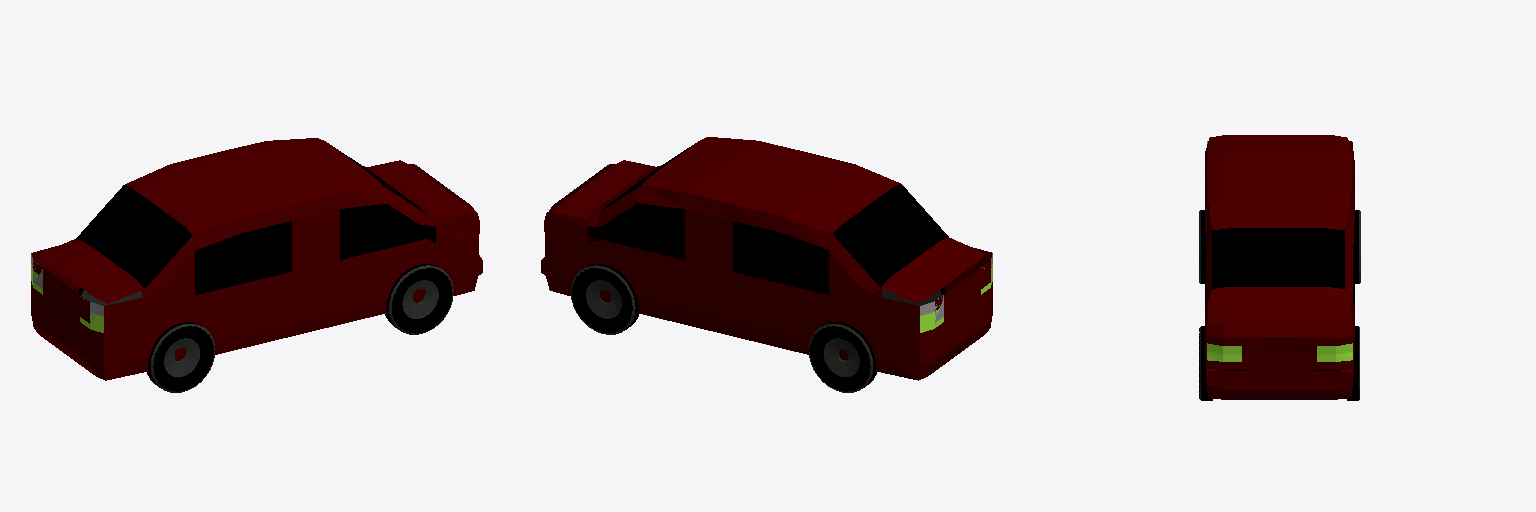
Rendered from Car.obj.
The picture shows the model from 3 angles: view 1: azimuth 30°, elevation 25°; view 2: azimuth 150°, elevation 25°; view 3: azimuth 270°, elevation 25°; orthographic projection.
Visible parts, largest first — view 1: Cube, Cylinder.001, Cylinder; view 2: Cube, Cylinder.002, Cylinder.003; view 3: Cube.
Boxes of the visible parts, x1=… form: Cube: x1=31, y1=138, x2=482, y2=380; Cylinder.001: x1=147, y1=322, x2=214, y2=392; Cylinder: x1=385, y1=264, x2=453, y2=334; Cube: x1=541, y1=137, x2=992, y2=380; Cylinder.002: x1=809, y1=322, x2=876, y2=392; Cylinder.003: x1=571, y1=264, x2=638, y2=334; Cube: x1=1205, y1=135, x2=1354, y2=399.
Bounding box in the file's own units: 6 × 2.35 × 2.16.